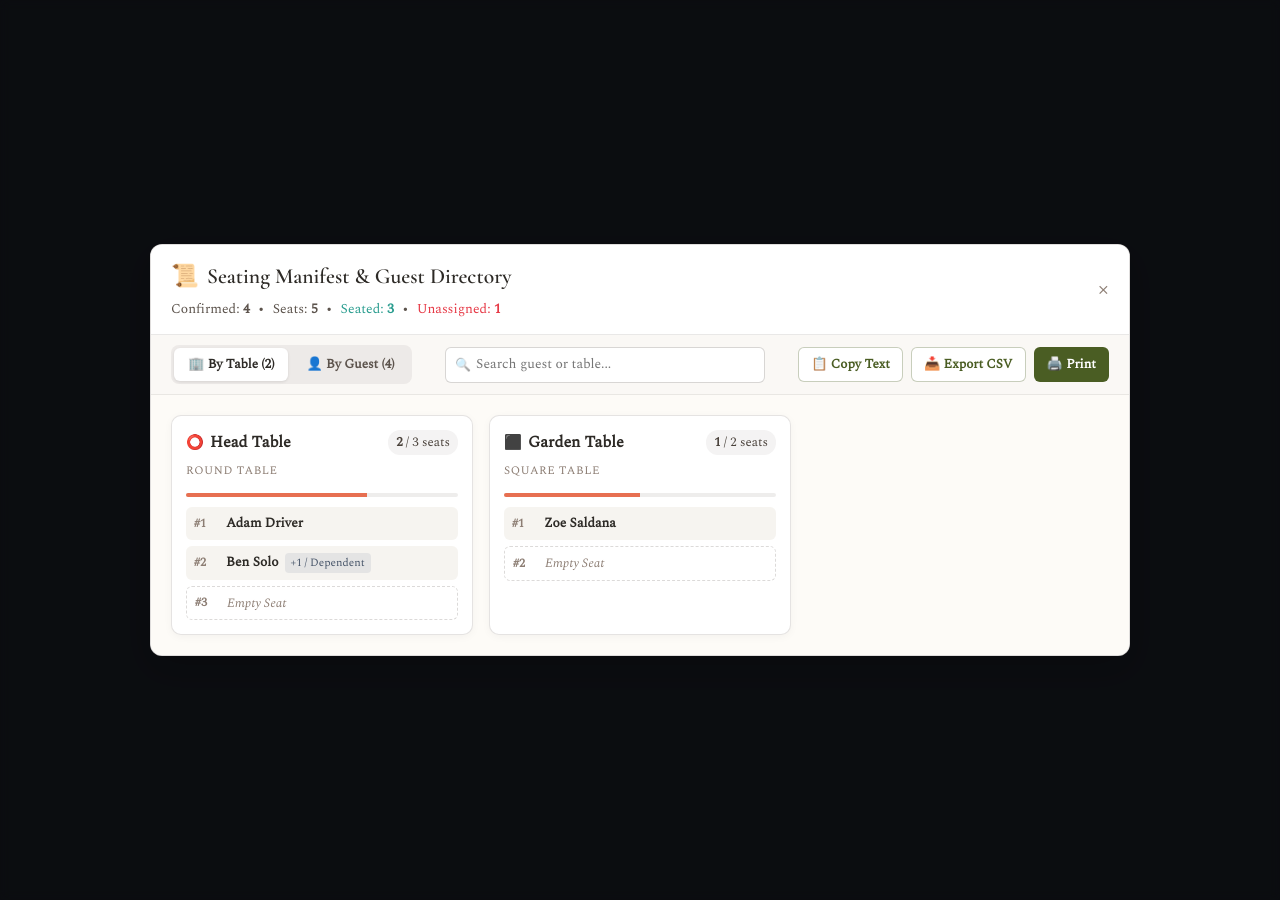
it: SeatingManifestModal › filters tables and guests reactively via search query
Note: Filter for "Garden"
Type "Garden" into the field with test id "manifest-search-input" at point(605, 365), box [445,347,765,383]
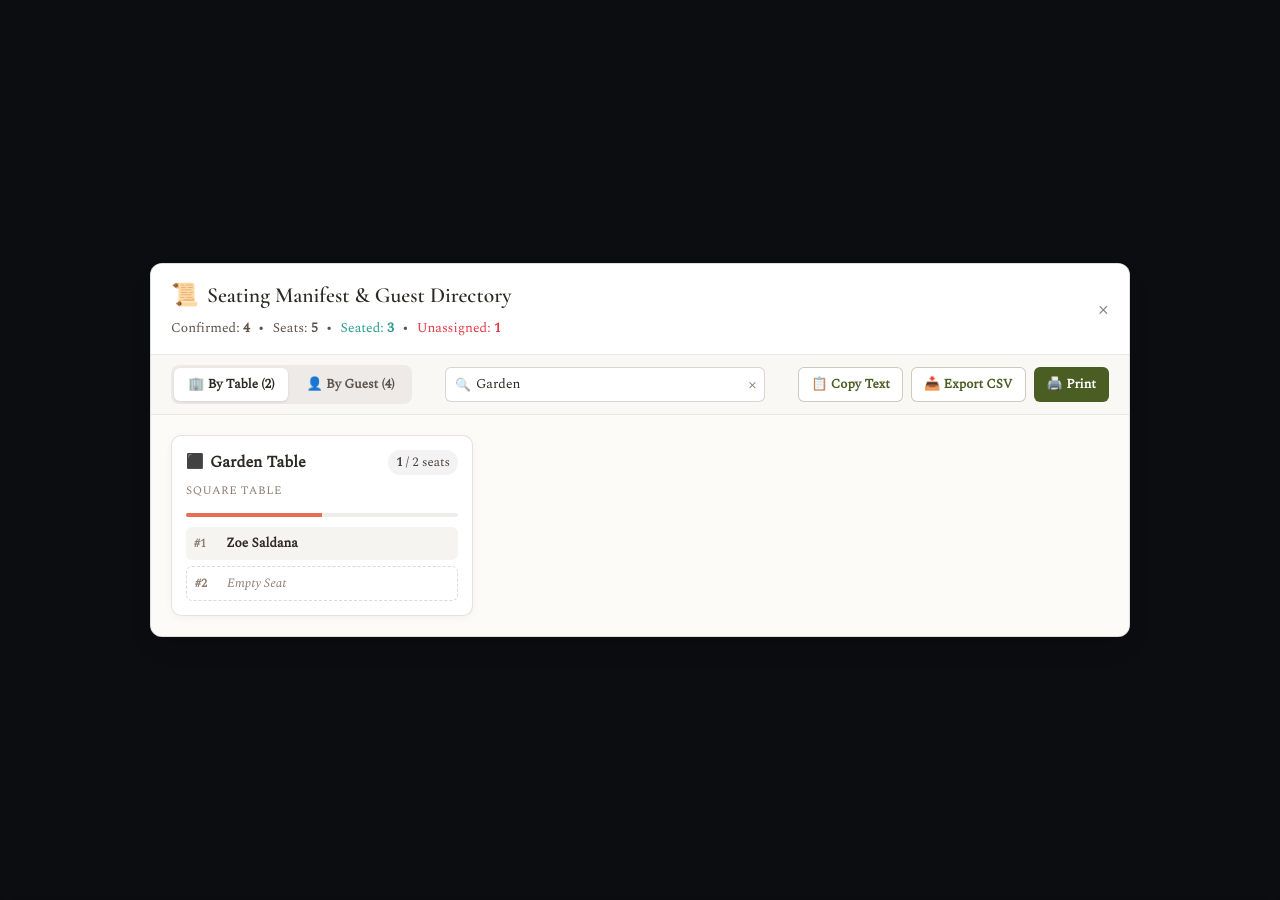
expect the text "Garden Table" is shown: met, box [210,450,306,476]
expect the text "Head Table" is gone: met
Note: Switch to By Guest and search for "Daisy"
Click the tab with test id "tab-by-guest" at point(351, 385), box [292,368,409,401]
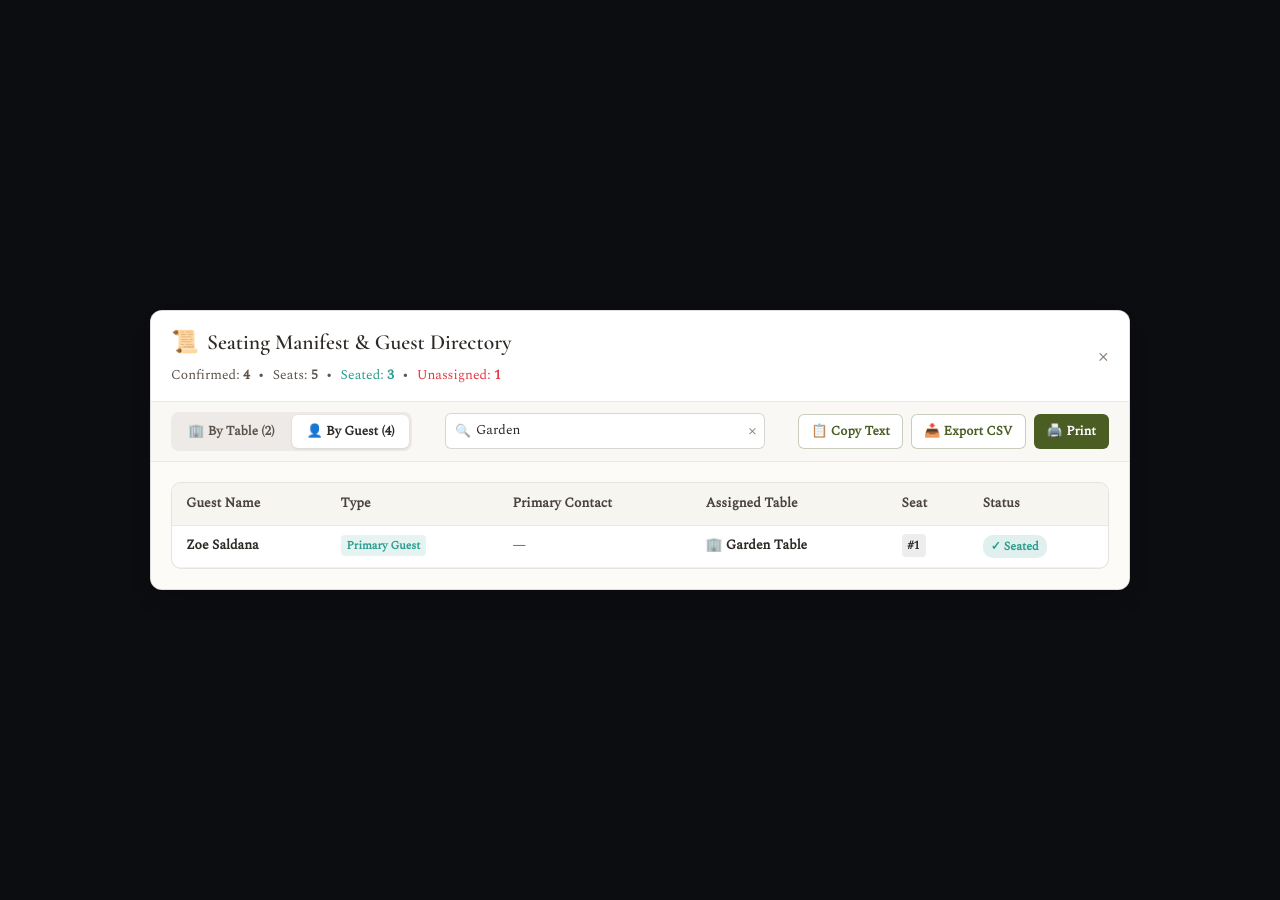
Replace the text in the field with test id "manifest-search-input" with "Daisy" at point(605, 431), box [445,414,765,449]
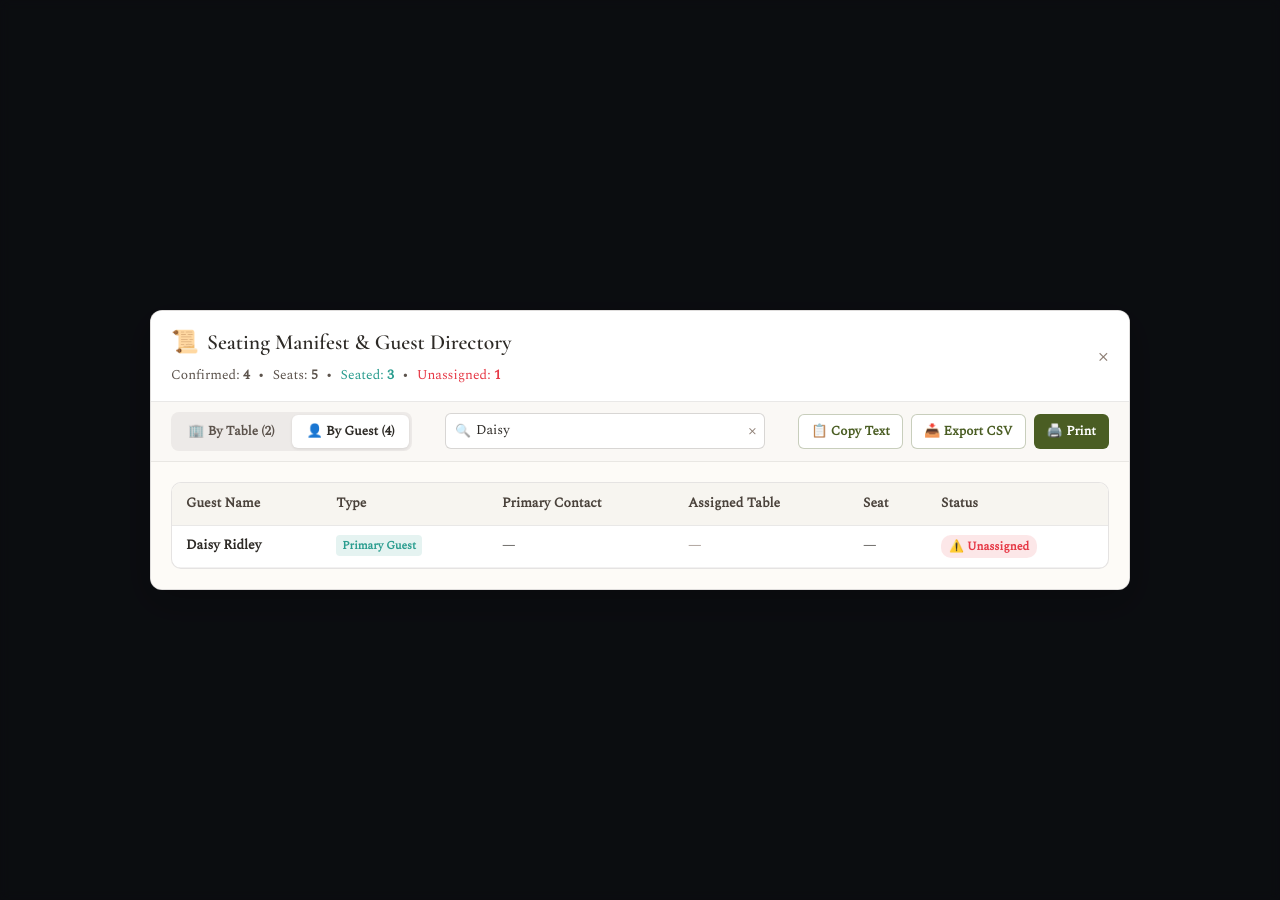
expect the text "Adam Driver" is not shown: met
expect the text "Daisy Ridley" is shown: met, box [186,535,261,555]
